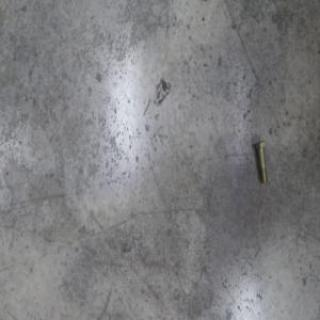Bolttrack_idkeyframe: (253, 138, 267, 184)
